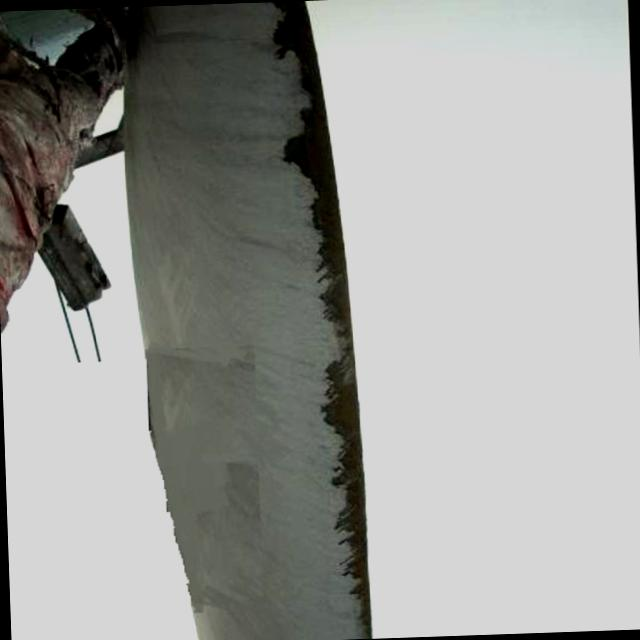corrosion: (273, 2, 350, 314), (322, 314, 374, 633)
